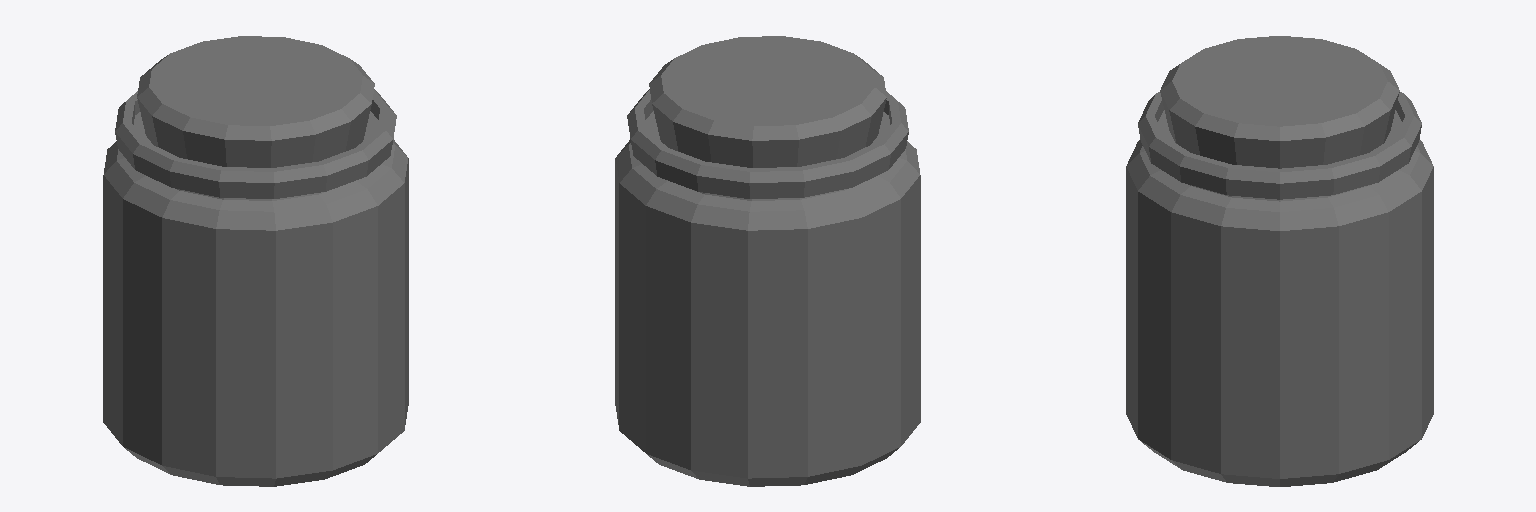
The model's file is Jar.obj.
3 renders of one model, left to right at view 1: azimuth 30°, elevation 25°; view 2: azimuth 150°, elevation 25°; view 3: azimuth 270°, elevation 25°, orthographic.
Visible parts, largest first — view 1: Jar; view 2: Jar; view 3: Jar.
Part boxes in pixels (left/top/right/bottom): Jar: left=103, top=36, right=408, bottom=486; Jar: left=615, top=36, right=920, bottom=486; Jar: left=1126, top=36, right=1433, bottom=486.
Bounding box in the file's own units: 2.25 × 2.83 × 2.25.